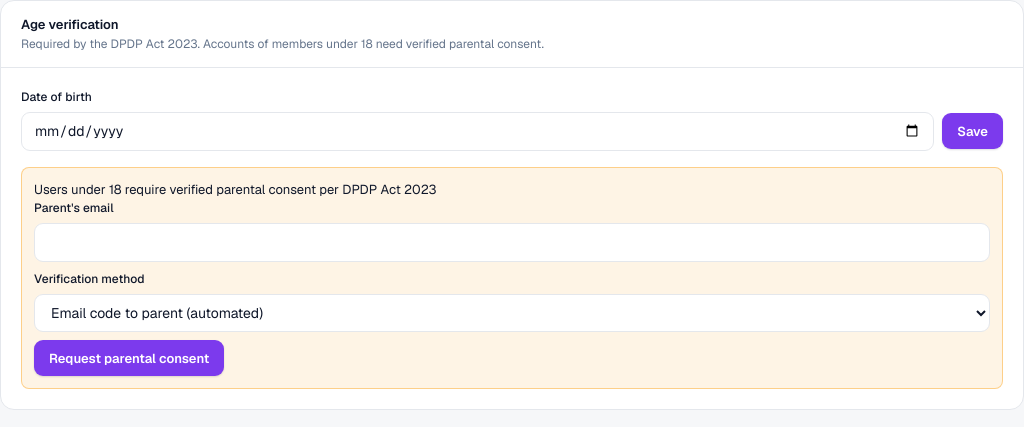
Test: AgeVerificationSection › offers the consent form and verifies the parent's code
Expected: the text "require verified parental consent" is shown, left=34, top=180, right=436, bottom=198
In the field labelled "Parent's email": (512, 242) left=34, top=223, right=990, bottom=262, type "parent@example.com"
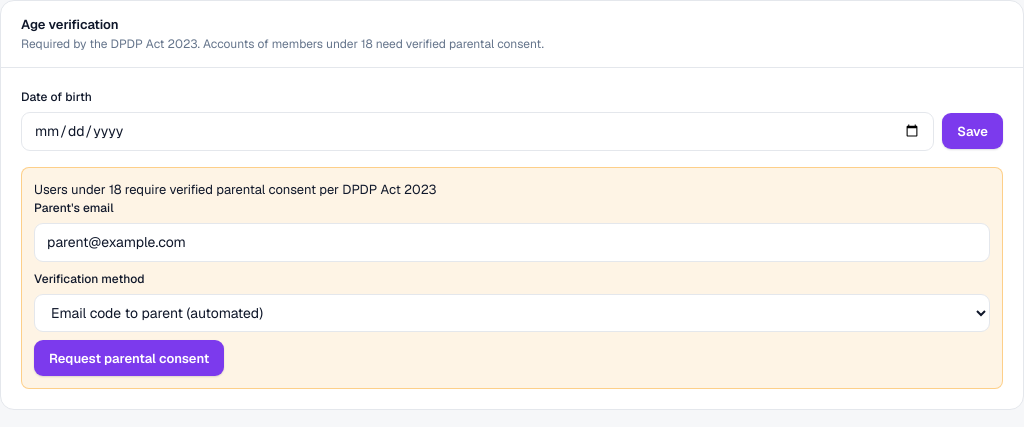
Click the button "Request parental consent": (129, 358) left=34, top=340, right=224, bottom=376
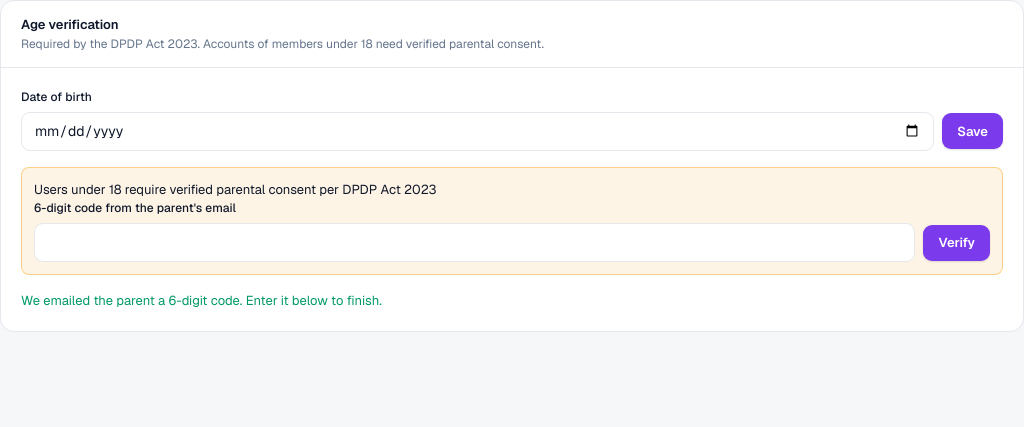
Expected: the text "emailed the parent a 6-digit code" is shown, left=21, top=292, right=382, bottom=309
In the field labelled "6-digit code from the parent's email": (475, 242) left=34, top=223, right=915, bottom=262, type "123456"
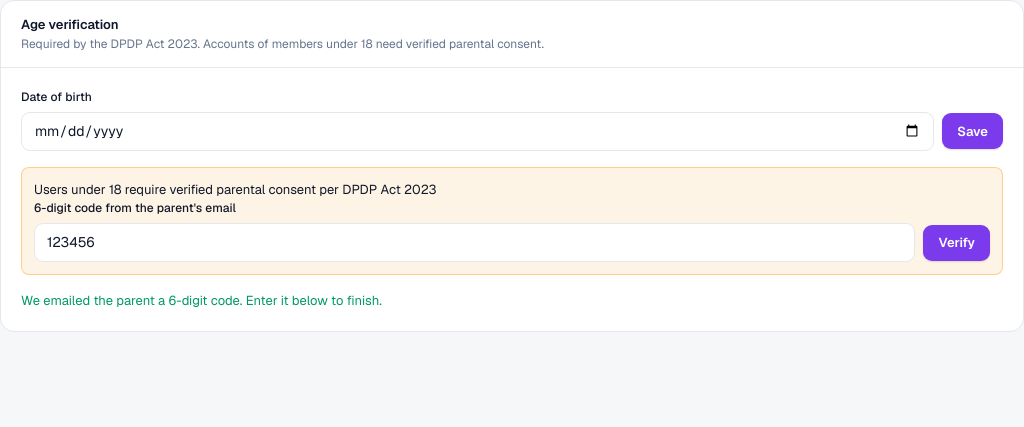
Click the button "Verify": (957, 242) left=923, top=224, right=990, bottom=260
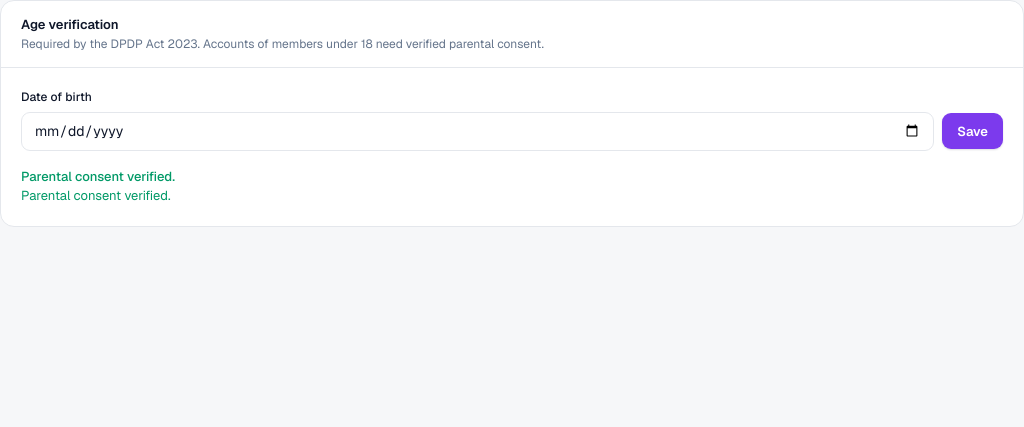
Expected: the 1st text "Parental consent verified." is shown, left=21, top=168, right=175, bottom=184
